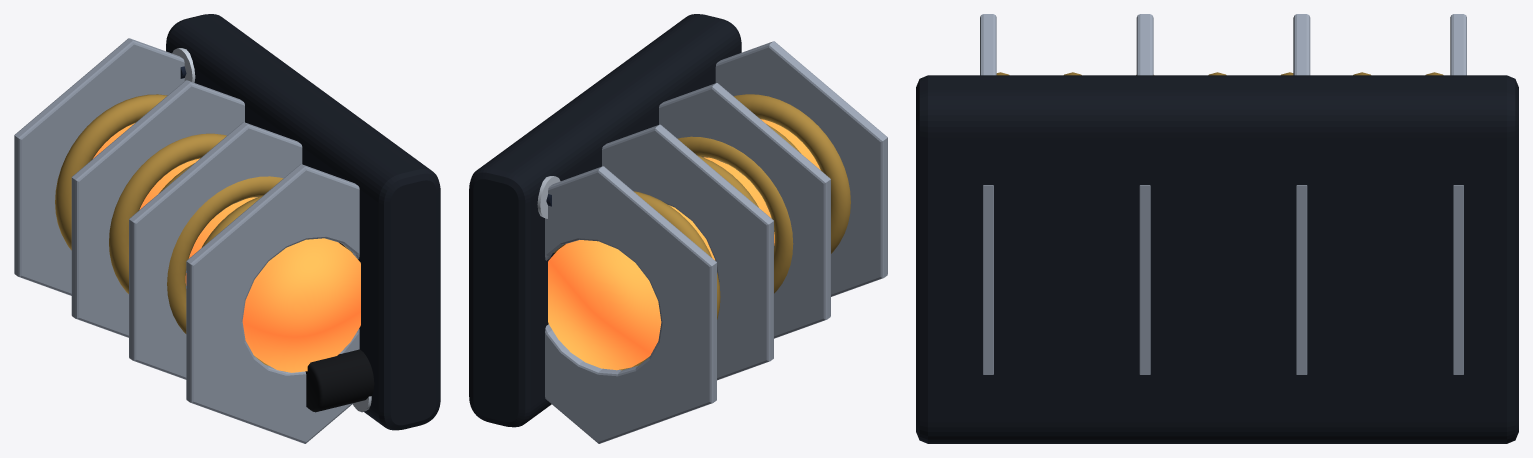
Rendered from attach_embercoil.glb.
3 views of the same model, side by side, from view 1: azimuth 30°, elevation 25°; view 2: azimuth 150°, elevation 25°; view 3: azimuth 270°, elevation 25° (orthographic). The views are drawn at different scales.
Parts seen in each view (by area): view 1: attach_embercoil_plate, attach_embercoil_fin3, attach_embercoil_fin0, attach_embercoil_fin2, attach_embercoil_fin1, attach_embercoil_core, attach_embercoil_wind2, attach_embercoil_wind0, attach_embercoil_wind4, attach_embercoil_hose, attach_embercoil_screws, attach_embercoil_wind5; view 2: attach_embercoil_plate, attach_embercoil_fin0, attach_embercoil_fin1, attach_embercoil_fin2, attach_embercoil_fin3, attach_embercoil_core, attach_embercoil_wind6, attach_embercoil_wind4, attach_embercoil_wind1, attach_embercoil_wind3, attach_embercoil_screws; view 3: attach_embercoil_plate, attach_embercoil_fin1, attach_embercoil_fin2, attach_embercoil_fin0, attach_embercoil_fin3.
Part boxes in pixels (x1,y1,x2,y2): attach_embercoil_plate: (166,14,440,430); attach_embercoil_fin3: (186,164,359,443); attach_embercoil_fin0: (14,38,184,295); attach_embercoil_fin2: (129,122,302,379); attach_embercoil_fin1: (71,80,244,337); attach_embercoil_core: (93,123,360,372); attach_embercoil_wind2: (109,133,226,293); attach_embercoil_wind0: (55,94,167,250); attach_embercoil_wind4: (167,176,283,333); attach_embercoil_hose: (305,349,374,412); attach_embercoil_screws: (172,48,371,412); attach_embercoil_wind5: (202,195,263,361); attach_embercoil_plate: (469,14,741,427); attach_embercoil_fin0: (545,166,716,443); attach_embercoil_fin1: (602,124,773,380); attach_embercoil_fin2: (659,83,830,338); attach_embercoil_fin3: (715,41,887,296); attach_embercoil_core: (548,119,820,370); attach_embercoil_wind6: (734,94,850,253); attach_embercoil_wind4: (678,136,793,293); attach_embercoil_wind1: (634,191,720,359); attach_embercoil_wind3: (698,155,758,207); attach_embercoil_screws: (537,176,560,218); attach_embercoil_plate: (916,75,1518,443); attach_embercoil_fin1: (1293,14,1310,374); attach_embercoil_fin2: (1136,14,1153,374); attach_embercoil_fin0: (1450,14,1466,374); attach_embercoil_fin3: (980,14,996,374).
Bounding box in the file's own units: 0.03 × 0.0347 × 0.05.
